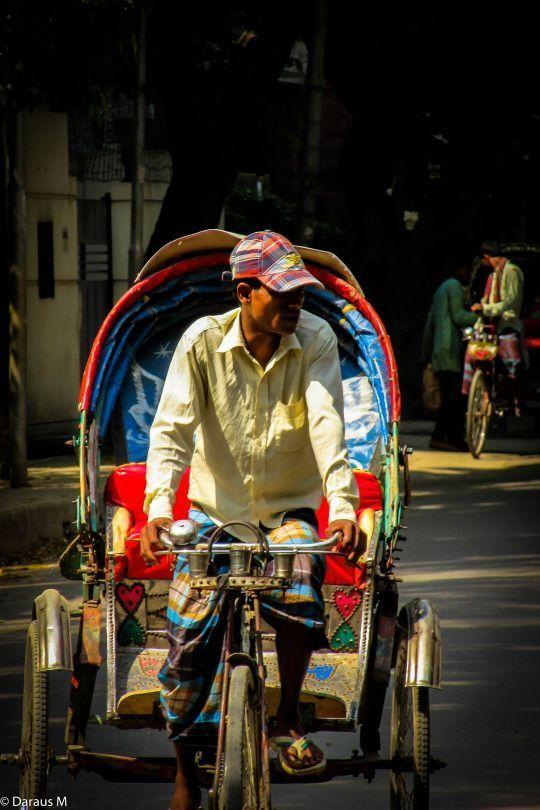Rickshaw: (12, 230, 239, 798), (501, 243, 539, 410)
